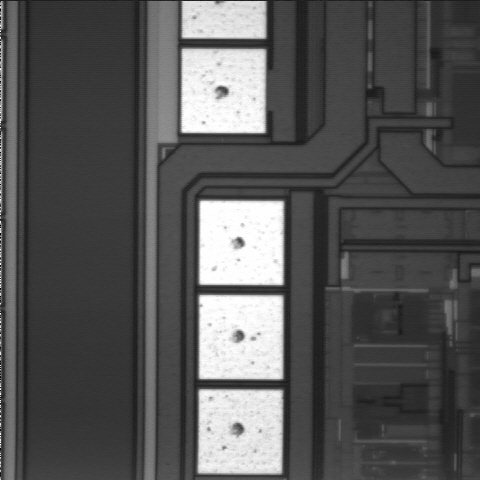pad: (198, 389, 283, 474), (181, 49, 266, 133), (199, 201, 284, 285), (199, 295, 283, 379)
